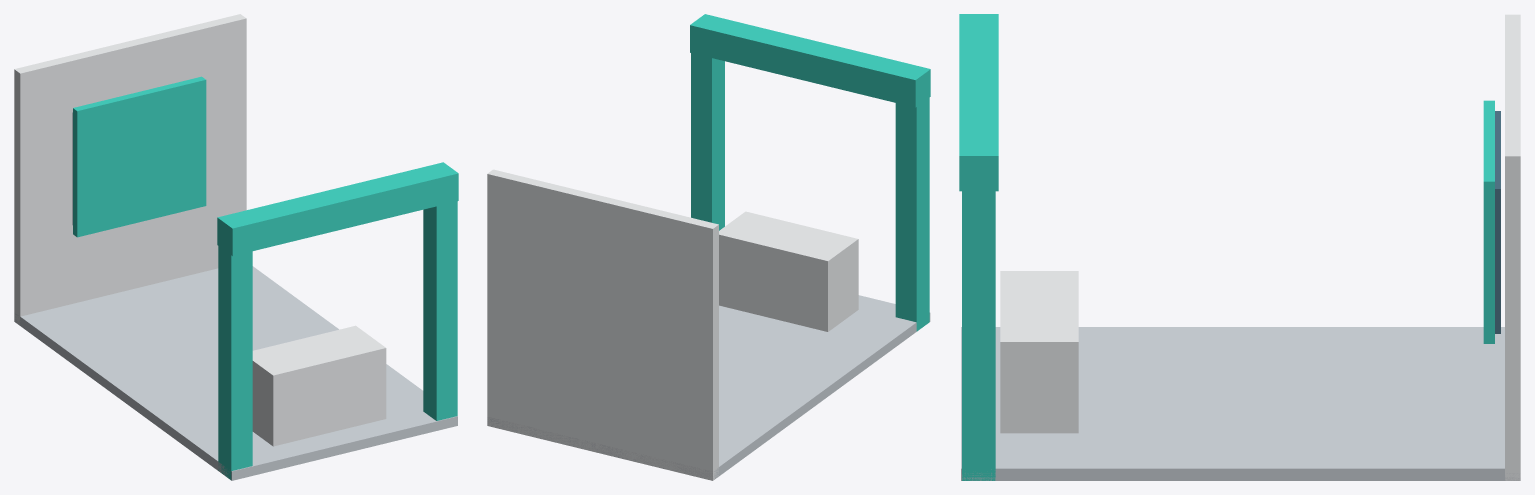
3 views of the same model, side by side, from view 1: azimuth 30°, elevation 25°; view 2: azimuth 150°, elevation 25°; view 3: azimuth 270°, elevation 25° (orthographic). The views are drawn at different scales.
Parts seen in each view (by area): view 1: Exhibition Booth Concept; view 2: Exhibition Booth Concept; view 3: Exhibition Booth Concept.
Boxes of the visible parts, bbox=[...] form: Exhibition Booth Concept: bbox=[14, 14, 458, 480]; Exhibition Booth Concept: bbox=[487, 14, 930, 480]; Exhibition Booth Concept: bbox=[959, 14, 1520, 480].
Size of the model in its own units: 3 by 3.2 by 5.02.
